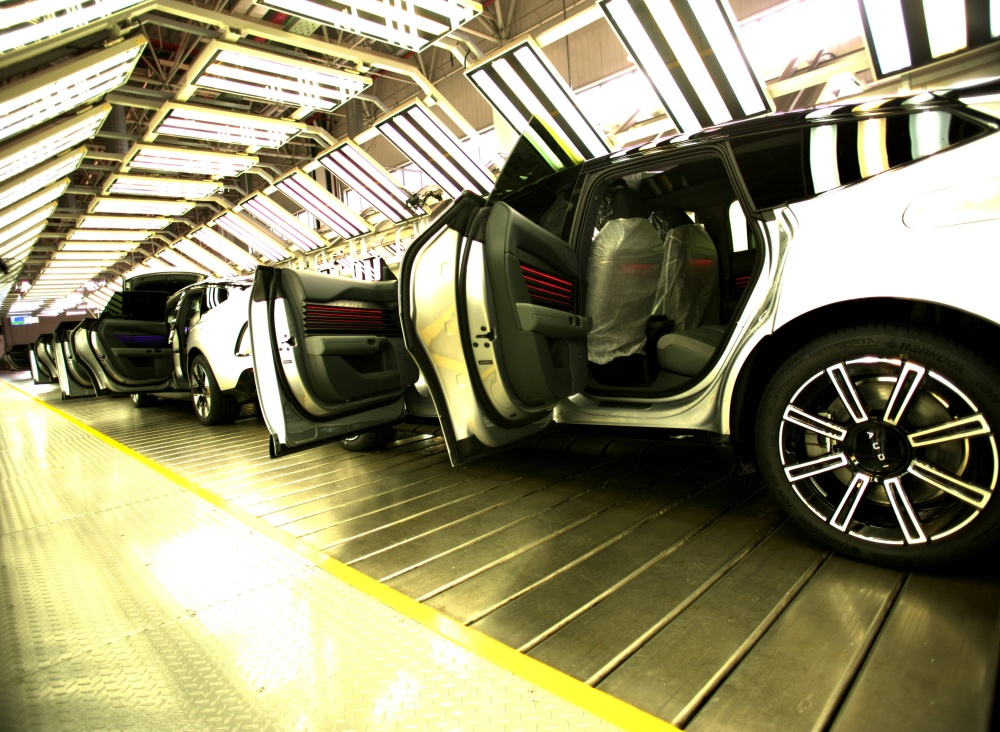armrest_color: (513, 301, 594, 338), (306, 333, 388, 358)
panel_color: (517, 256, 577, 313), (299, 298, 391, 333)
